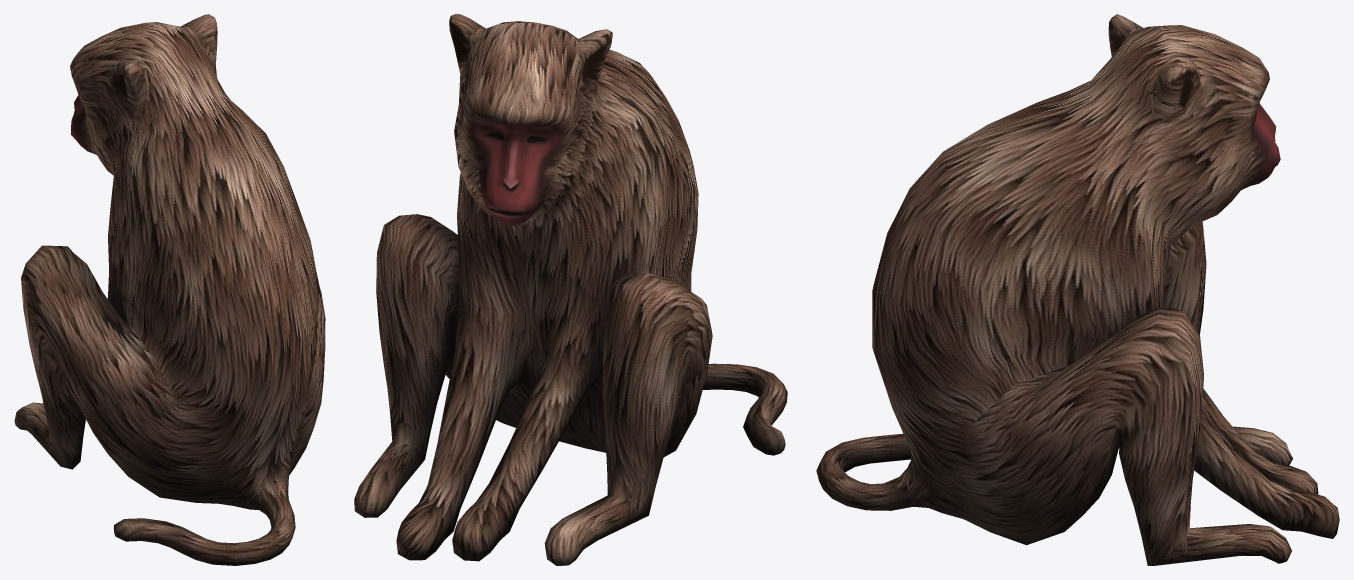
3 views of the same model, side by side, from view 1: azimuth 30°, elevation 25°; view 2: azimuth 150°, elevation 25°; view 3: azimuth 270°, elevation 25° (orthographic). The views are drawn at different scales.
Visible parts, largest first — view 1: monkey2; view 2: monkey2; view 3: monkey2.
Part boxes in pixels (left/top/right/bottom): monkey2: left=14, top=14, right=325, bottom=565; monkey2: left=354, top=14, right=787, bottom=565; monkey2: left=816, top=14, right=1339, bottom=565.
Size of the model in its own units: 1.13 by 1.73 by 1.69.
1 material, 1 textured.
